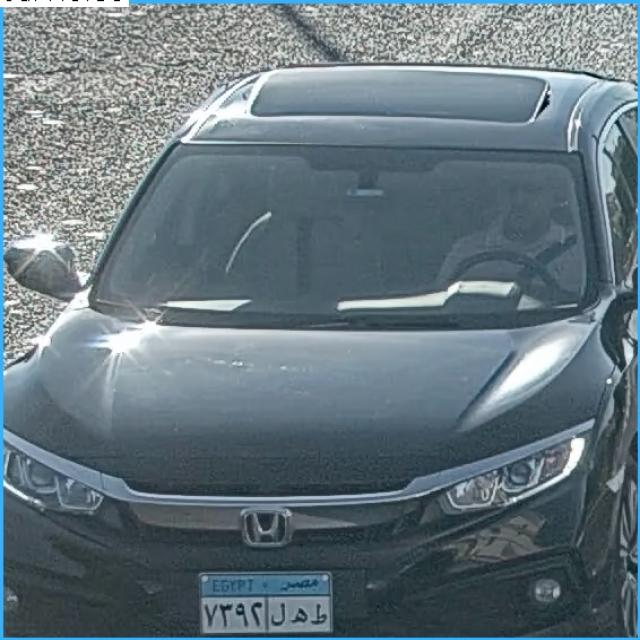windshield: (84, 152, 594, 314)
